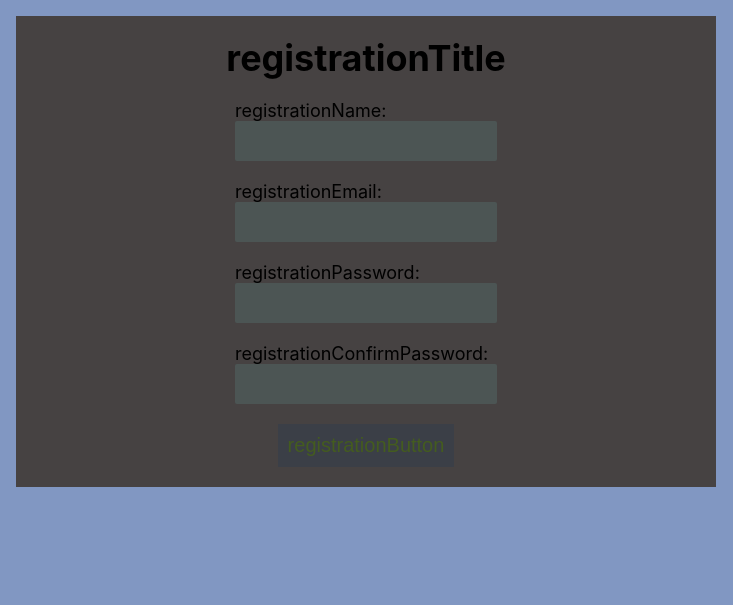
Testing Registration Form page › should be displayed a message not equal password
The image size is (733, 605).
Type "123@AbcD123" into the password field named "registration_form_input_password" at (366, 303), box [235,283,497,323]
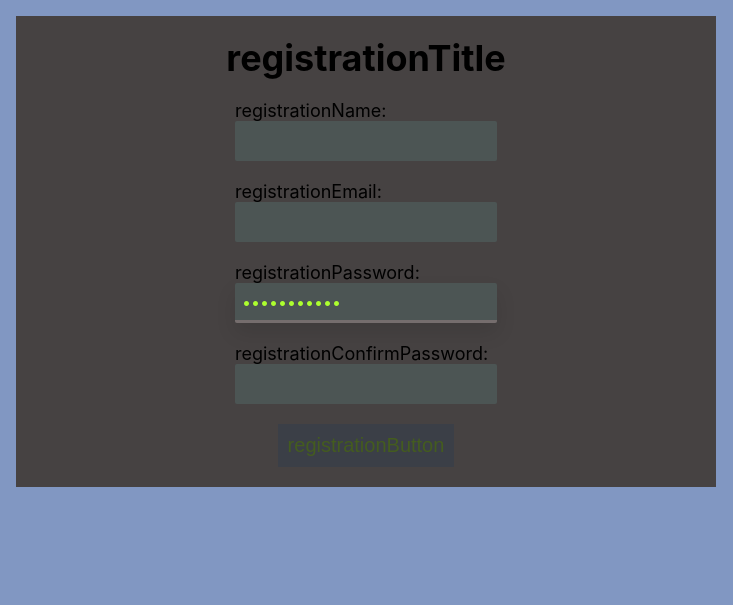
Type "456@AbcD789" into the password field named "registration_form_input_confirm_password" at (366, 384), box [235,364,497,404]
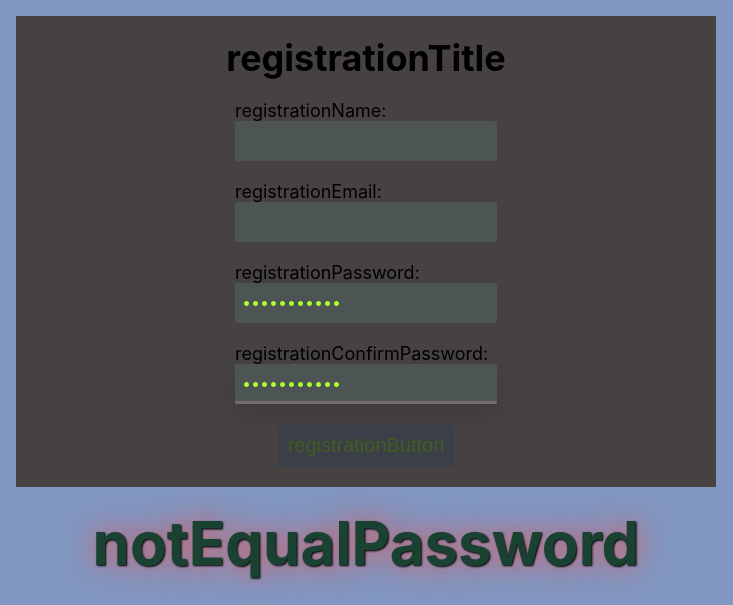
Expected: the button with aria-label "registration_form_button" is disabled, [278,424,454,467]
Expected: the heading named "registration_form_not_equal_password" reads "notEqualPassword", [92,507,639,579]
